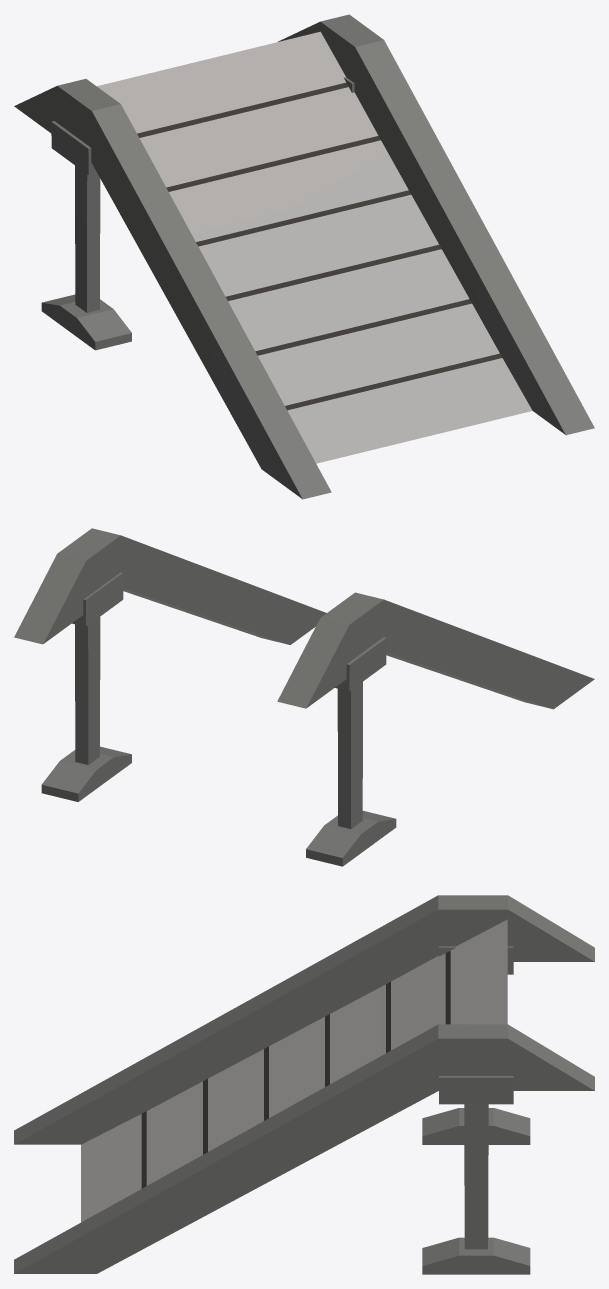
File: prop-service-ramp.glb
The picture shows the model from 3 angles, top to bottom: view 1: azimuth 30°, elevation 25°; view 2: azimuth 150°, elevation 25°; view 3: azimuth 270°, elevation 25°; orthographic projection.
Parts seen in each view (by area): view 1: Ramp; view 2: Ramp; view 3: Ramp.
Boxes of the visible parts, x1,y1,x2,y2 form: Ramp: [14, 14, 594, 499]; Ramp: [14, 528, 594, 866]; Ramp: [14, 895, 594, 1274].
Bounding box in the file's own units: 1.87 × 1.39 × 3.11.
1 material, 1 textured.
